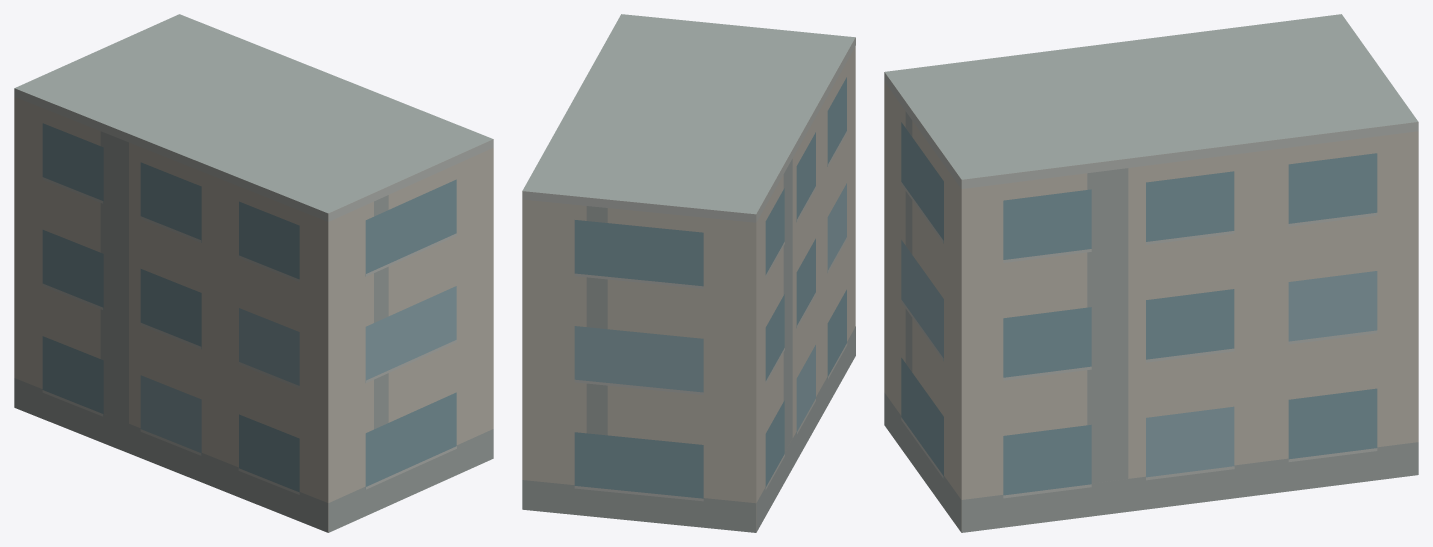
Rendered from residential-05195d02-3ddf-44ee-ad11-cce926fa602b.glb.
3 views of the same model, side by side, from view 1: azimuth 30°, elevation 25°; view 2: azimuth 150°, elevation 25°; view 3: azimuth 270°, elevation 25° (orthographic). The views are drawn at different scales.
Parts seen in each view (by area): view 1: residential-05195d02-3ddf-44ee-ad11-cce926fa602b.tmp; view 2: residential-05195d02-3ddf-44ee-ad11-cce926fa602b.tmp; view 3: residential-05195d02-3ddf-44ee-ad11-cce926fa602b.tmp.
Boxes of the visible parts, <box> form: residential-05195d02-3ddf-44ee-ad11-cce926fa602b.tmp: <box>14,14,493,532</box>; residential-05195d02-3ddf-44ee-ad11-cce926fa602b.tmp: <box>522,14,855,532</box>; residential-05195d02-3ddf-44ee-ad11-cce926fa602b.tmp: <box>884,14,1418,532</box>.
Size of the model in its own units: 9.22 by 9.15 by 12.56.
